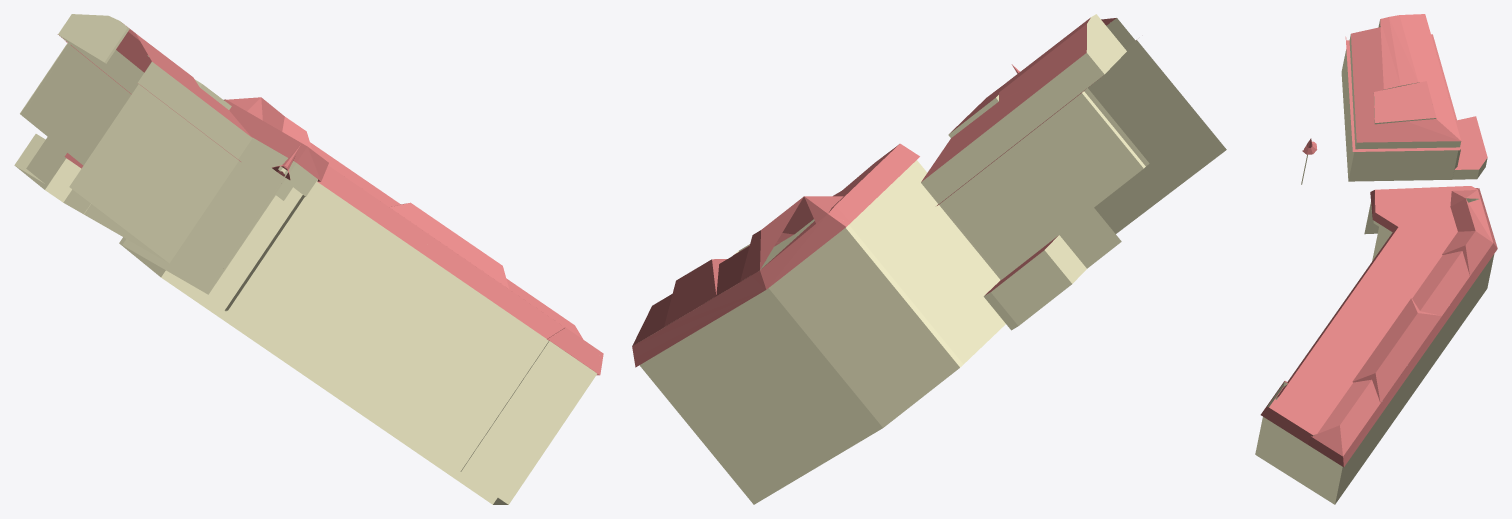
File: tile_081.glb
3 renders of one model, left to right at view 1: azimuth 30°, elevation 25°; view 2: azimuth 150°, elevation 25°; view 3: azimuth 270°, elevation 25°, orthographic. The views are drawn at different scales.
Visible parts, largest first — view 1: Batched_Building_ID_BE9EB627-D202-449A-AB96-B063297F2088; view 2: Batched_Building_ID_BE9EB627-D202-449A-AB96-B063297F2088; view 3: Batched_Building_ID_BE9EB627-D202-449A-AB96-B063297F2088.
Boxes of the visible parts, x1,y1,x2,y2 form: Batched_Building_ID_BE9EB627-D202-449A-AB96-B063297F2088: (14,14,603,504); Batched_Building_ID_BE9EB627-D202-449A-AB96-B063297F2088: (632,14,1226,504); Batched_Building_ID_BE9EB627-D202-449A-AB96-B063297F2088: (1255,14,1497,504).
Size of the model in its own units: 98.86 by 97.73 by 57.33.
